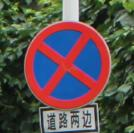No Parking: (25, 22, 111, 112)
